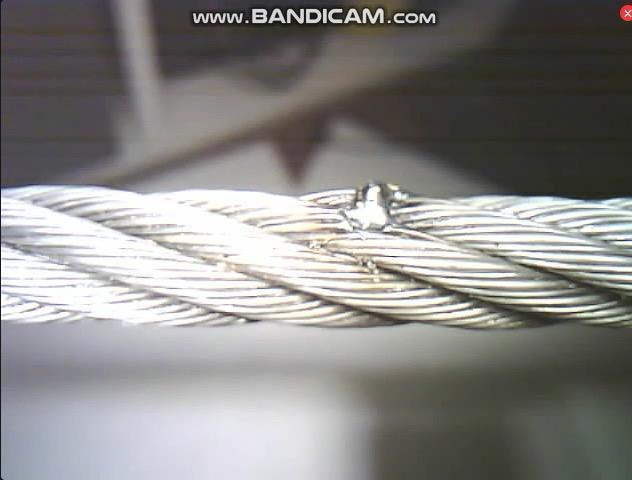thunderbolt: (324, 171, 419, 234)
